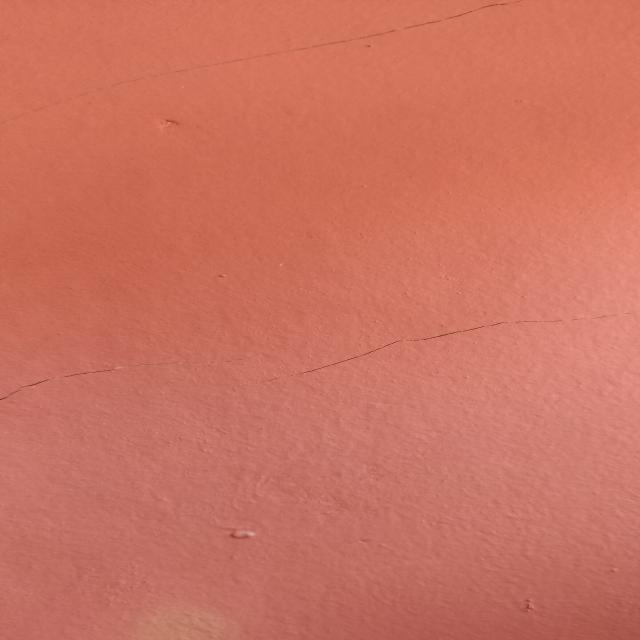Crack: (7, 1, 520, 126)
